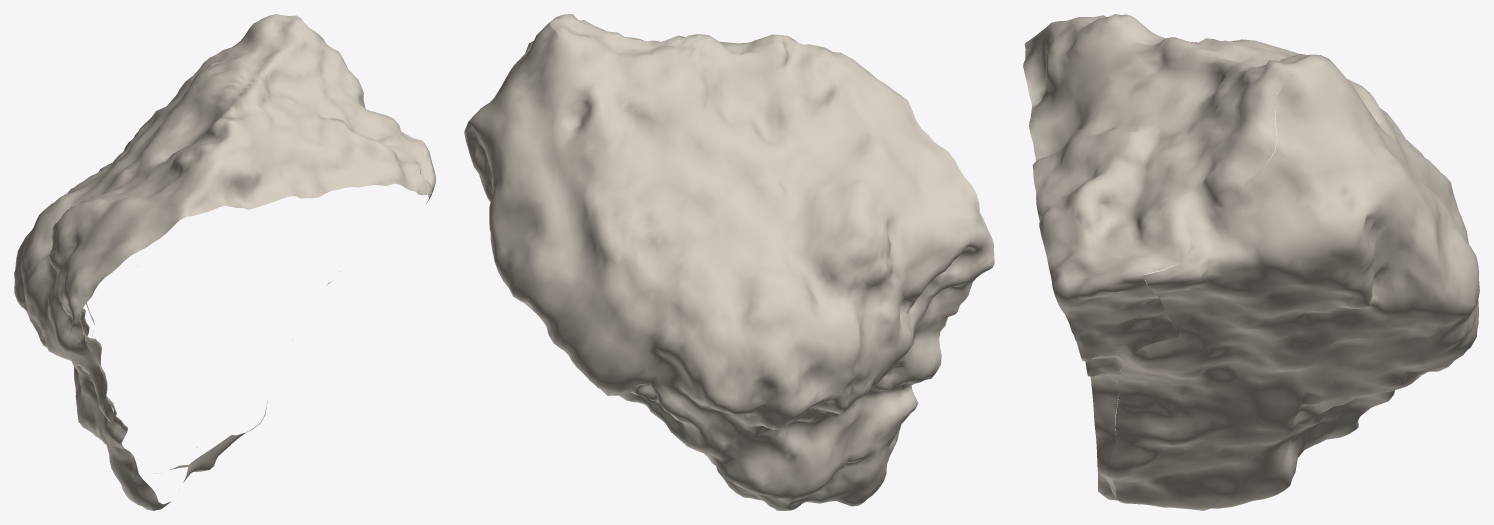
The model's file is gray-big-rock_cand00.glb.
The picture shows the model from 3 angles, left to right: view 1: azimuth 30°, elevation 25°; view 2: azimuth 150°, elevation 25°; view 3: azimuth 270°, elevation 25°; orthographic projection. The views are drawn at different scales.
Visible parts, largest first — view 1: world; view 2: world; view 3: world.
Boxes of the visible parts, left/top/right/bottom form: world: left=14, top=14, right=435, bottom=510; world: left=464, top=14, right=994, bottom=510; world: left=1023, top=14, right=1479, bottom=510.
Size of the model in its own units: 1.55 by 1.58 by 1.13.
